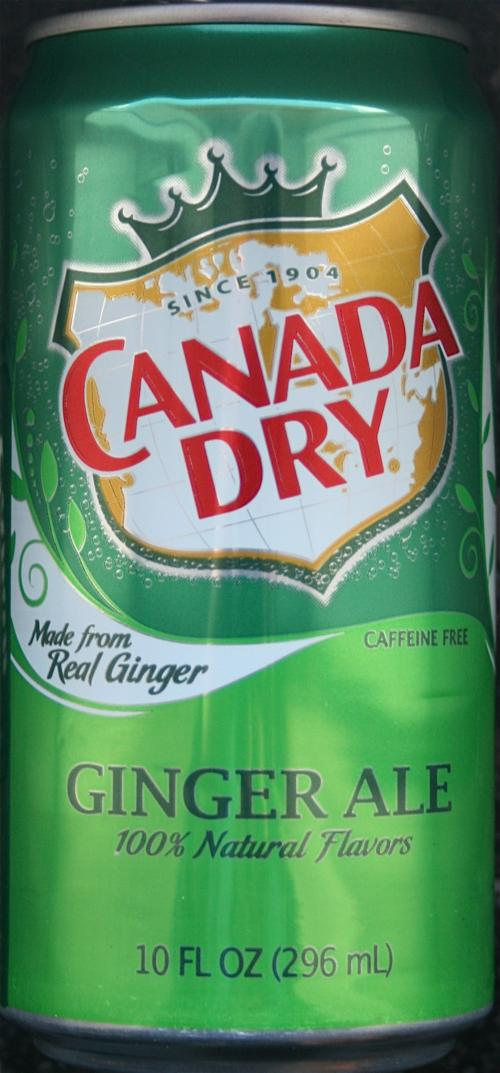Lata: (11, 4, 498, 1072)
